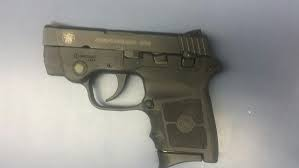gun: (40, 21, 223, 165)
